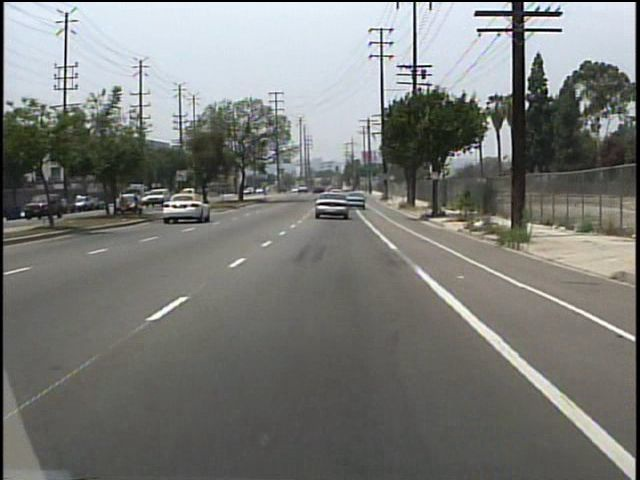person: (76, 192, 86, 214)
